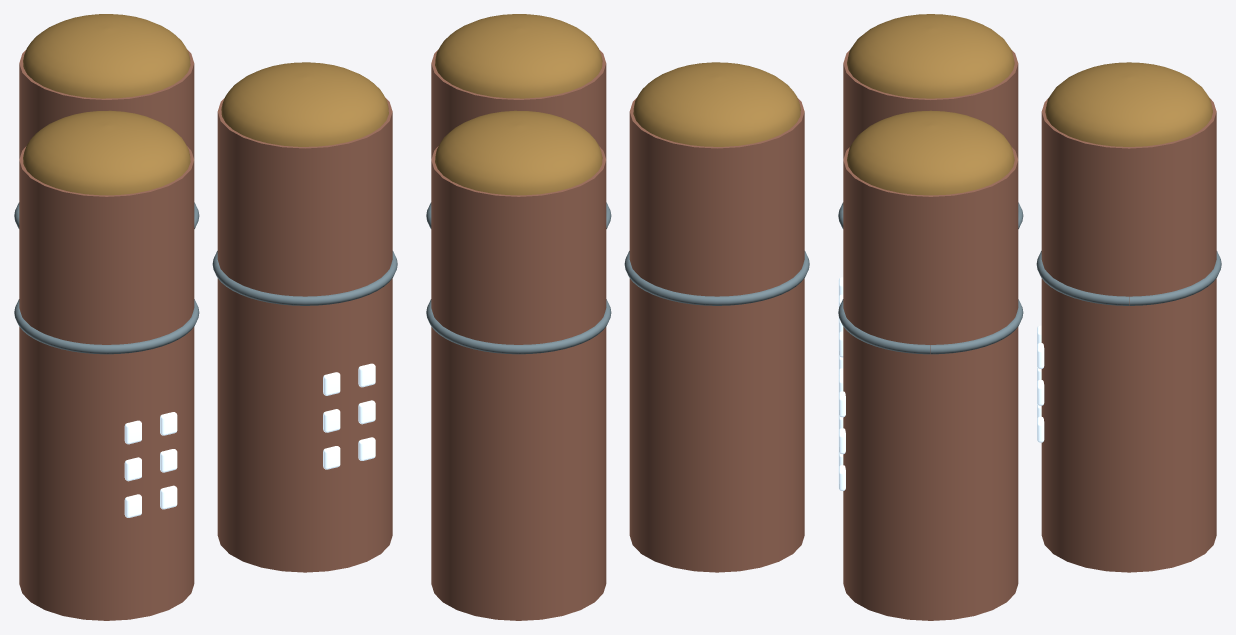
3 renders of one model, left to right at view 1: azimuth 30°, elevation 25°; view 2: azimuth 150°, elevation 25°; view 3: azimuth 270°, elevation 25°, orthographic.
Visible parts, largest first — view 1: Cylindrical tower.002, Cylindrical tower.001, Tower crown.002, Tower crown, Tower crown.001, Cylindrical tower, Tower seam.001, Tower seam.002; view 2: Cylindrical tower.001, Cylindrical tower, Tower crown.002, Tower crown, Tower crown.001, Cylindrical tower.002, Tower seam, Tower seam.001; view 3: Cylindrical tower, Cylindrical tower.002, Tower crown.001, Tower crown.002, Tower crown, Cylindrical tower.001, Tower seam.002, Tower seam.
Boxes of the visible parts, box(x1,y1,x2,y2) form: Cylindrical tower.002: box(217, 98, 392, 572); Cylindrical tower.001: box(19, 146, 194, 620); Tower crown.002: box(221, 62, 388, 146); Tower crown: box(23, 14, 190, 98); Tower crown.001: box(23, 110, 190, 195); Cylindrical tower: box(19, 49, 194, 159); Tower seam.001: box(14, 299, 199, 354); Tower seam.002: box(212, 251, 397, 305); Cylindrical tower.001: box(629, 98, 804, 572); Cylindrical tower: box(431, 146, 606, 620); Tower crown.002: box(435, 14, 602, 98); Tower crown: box(435, 110, 602, 195); Tower crown.001: box(633, 62, 800, 146); Cylindrical tower.002: box(431, 49, 606, 159); Tower seam: box(426, 299, 611, 354); Tower seam.001: box(624, 251, 809, 305); Cylindrical tower: box(1041, 98, 1216, 572); Cylindrical tower.002: box(843, 147, 1018, 620); Tower crown.001: box(847, 14, 1014, 98); Tower crown.002: box(847, 110, 1014, 195); Tower crown: box(1045, 62, 1212, 146); Cylindrical tower.001: box(843, 50, 1018, 159); Tower seam.002: box(838, 299, 1023, 354); Tower seam: box(1036, 251, 1221, 305).
Size of the model in its own units: 2.04 by 2.49 by 1.88.
